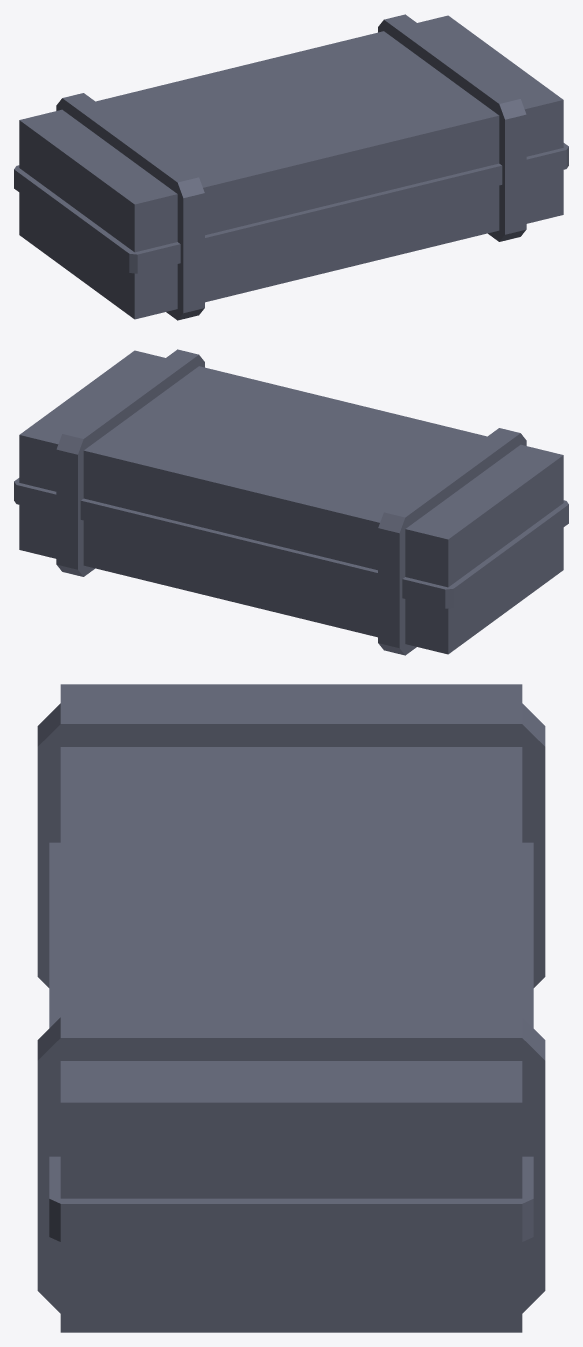
The model's file is crate.dae.
The picture shows the model from 3 angles, top to bottom: view 1: azimuth 30°, elevation 25°; view 2: azimuth 150°, elevation 25°; view 3: azimuth 270°, elevation 25°; orthographic projection. The views are drawn at different scales.
Visible parts, largest first — view 1: Cube_001; view 2: Cube_001; view 3: Cube_001.
Part boxes in pixels (x1=…): Cube_001: x1=14, y1=14, x2=568, y2=320; Cube_001: x1=14, y1=349, x2=568, y2=655; Cube_001: x1=37, y1=684, x2=545, y2=1332.
Bounding box in the file's own units: 0.8 × 0.4 × 0.24.
